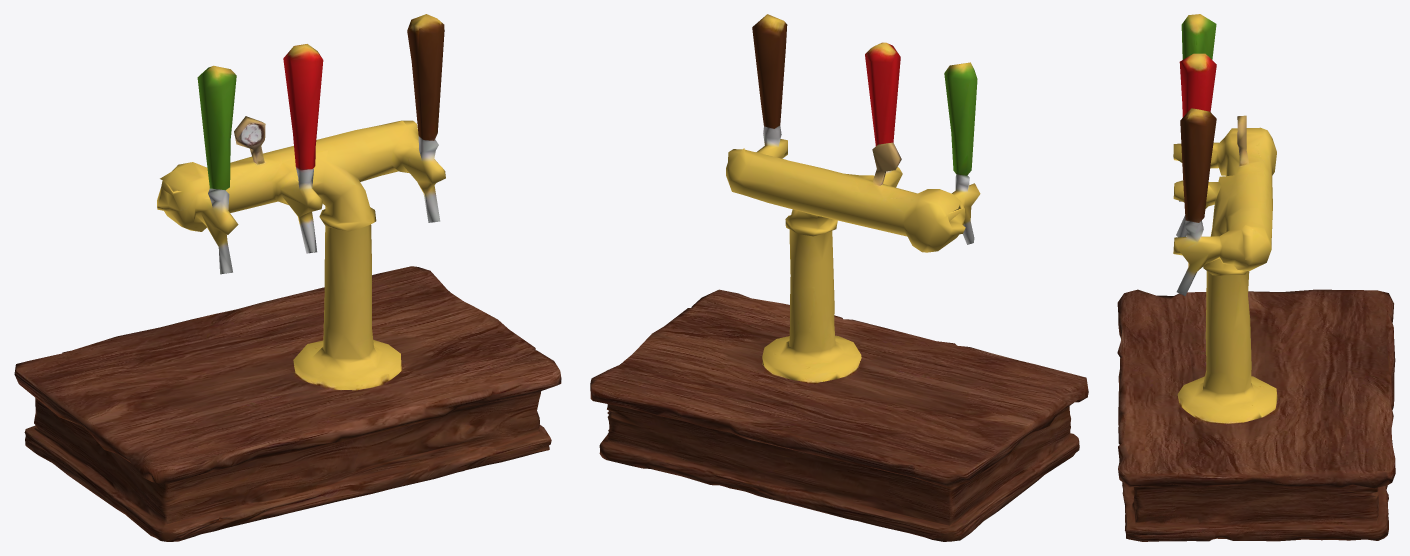
Rendered from beer_tap.glb.
3 renders of one model, left to right at view 1: azimuth 30°, elevation 25°; view 2: azimuth 150°, elevation 25°; view 3: azimuth 270°, elevation 25°, orthographic. The views are drawn at different scales.
Visible parts, largest first — view 1: tripo_node_9b66fb55-7715-46a4-873d-94a4cc1d1afd; view 2: tripo_node_9b66fb55-7715-46a4-873d-94a4cc1d1afd; view 3: tripo_node_9b66fb55-7715-46a4-873d-94a4cc1d1afd.
Boxes of the visible parts, x1,y1,x2,y2 form: tripo_node_9b66fb55-7715-46a4-873d-94a4cc1d1afd: (14, 14, 561, 541); tripo_node_9b66fb55-7715-46a4-873d-94a4cc1d1afd: (590, 14, 1088, 541); tripo_node_9b66fb55-7715-46a4-873d-94a4cc1d1afd: (1117, 14, 1395, 541).
Size of the model in its own units: 0.8 by 0.7863 by 0.5038.
1 material, 1 textured.
